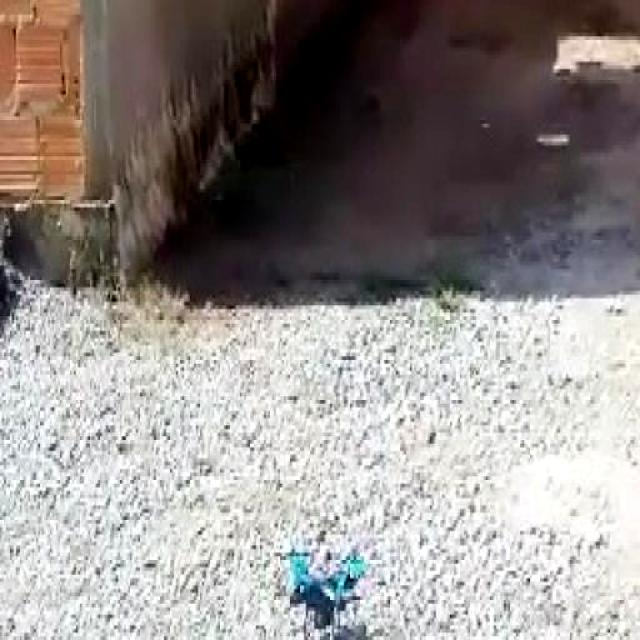bird: (270, 509, 381, 640)
